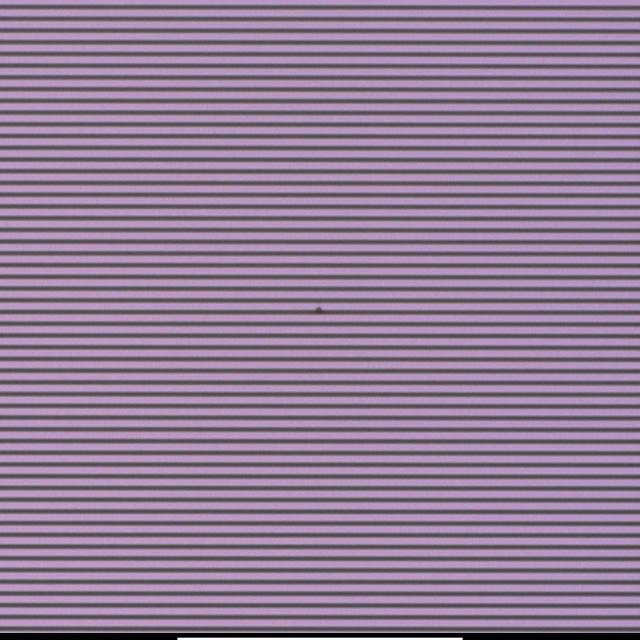03_intrusion: (313, 301, 325, 317)
